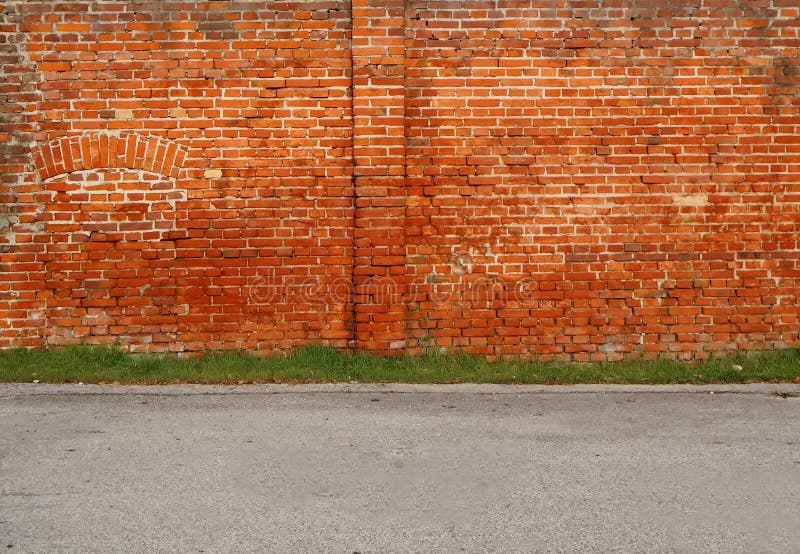Wall: (432, 8, 666, 350), (9, 13, 243, 345)
